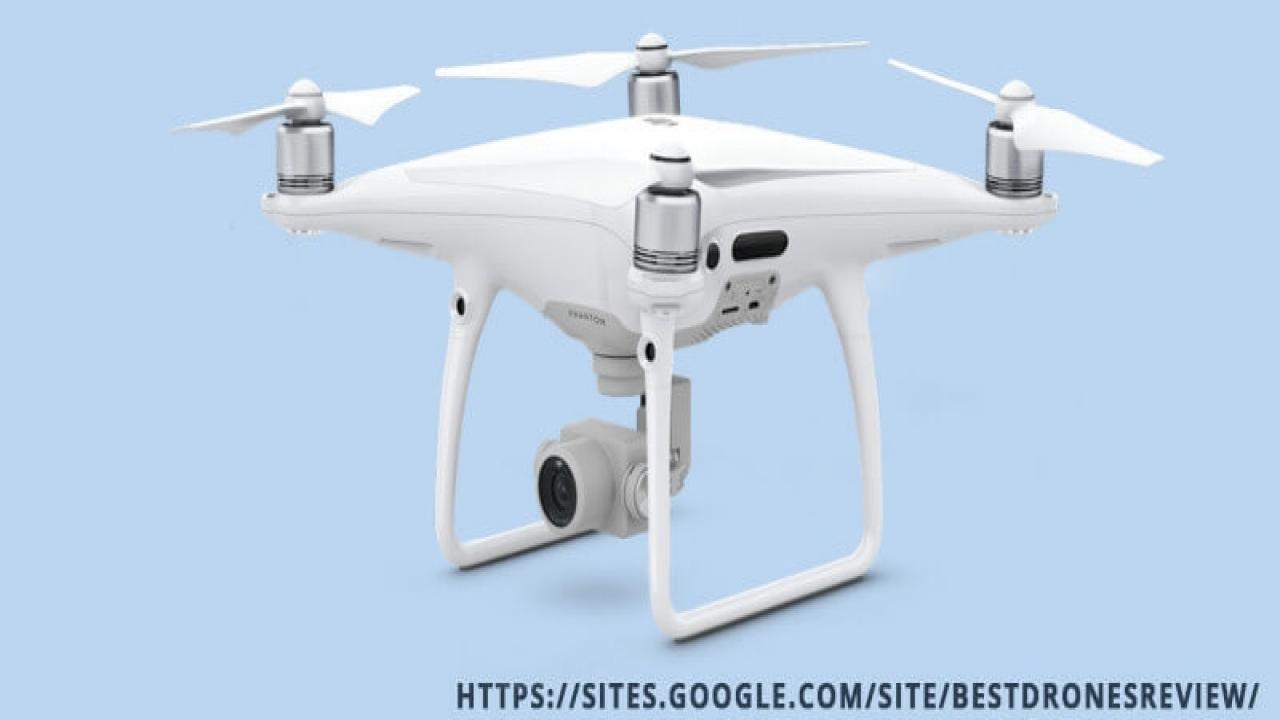Drone: (163, 25, 1170, 646)
